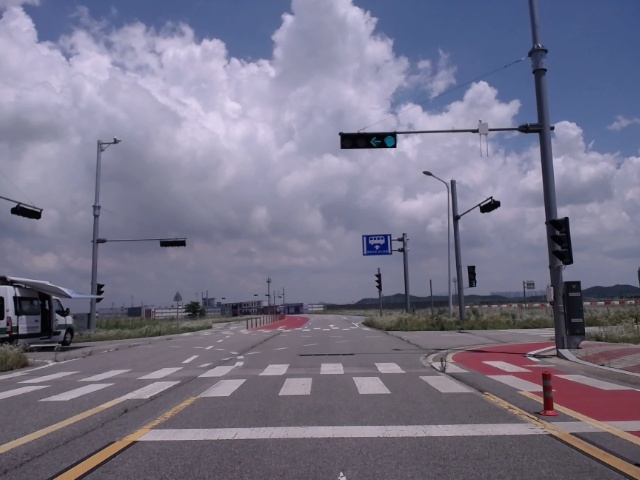all_green_4: (340, 133, 398, 148)
